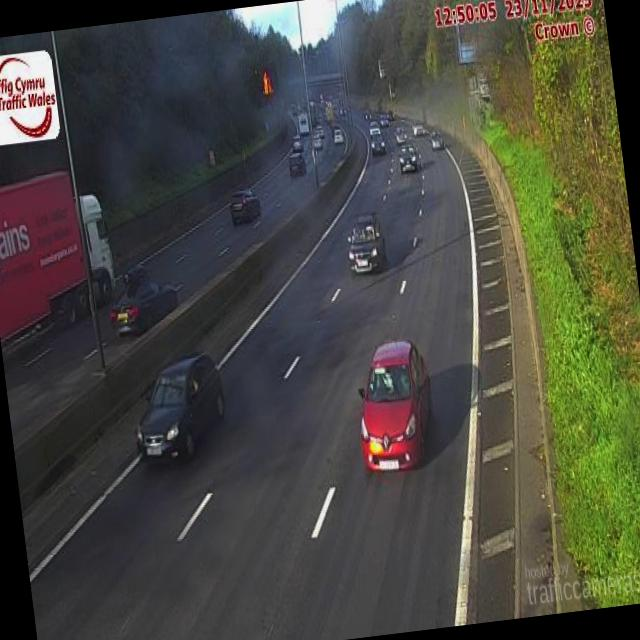foliage: (485, 0, 640, 356), (56, 8, 295, 208), (340, 0, 475, 91), (0, 130, 65, 183)
